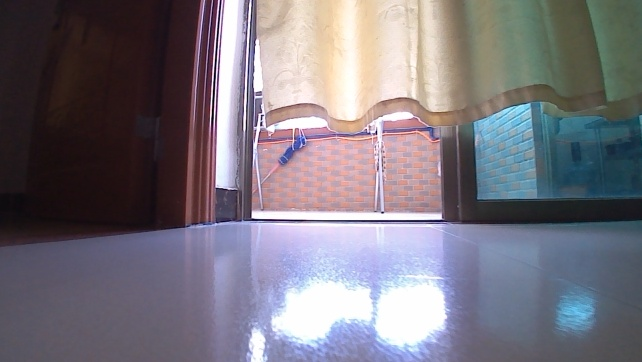door_anno: (21, 0, 225, 237)
